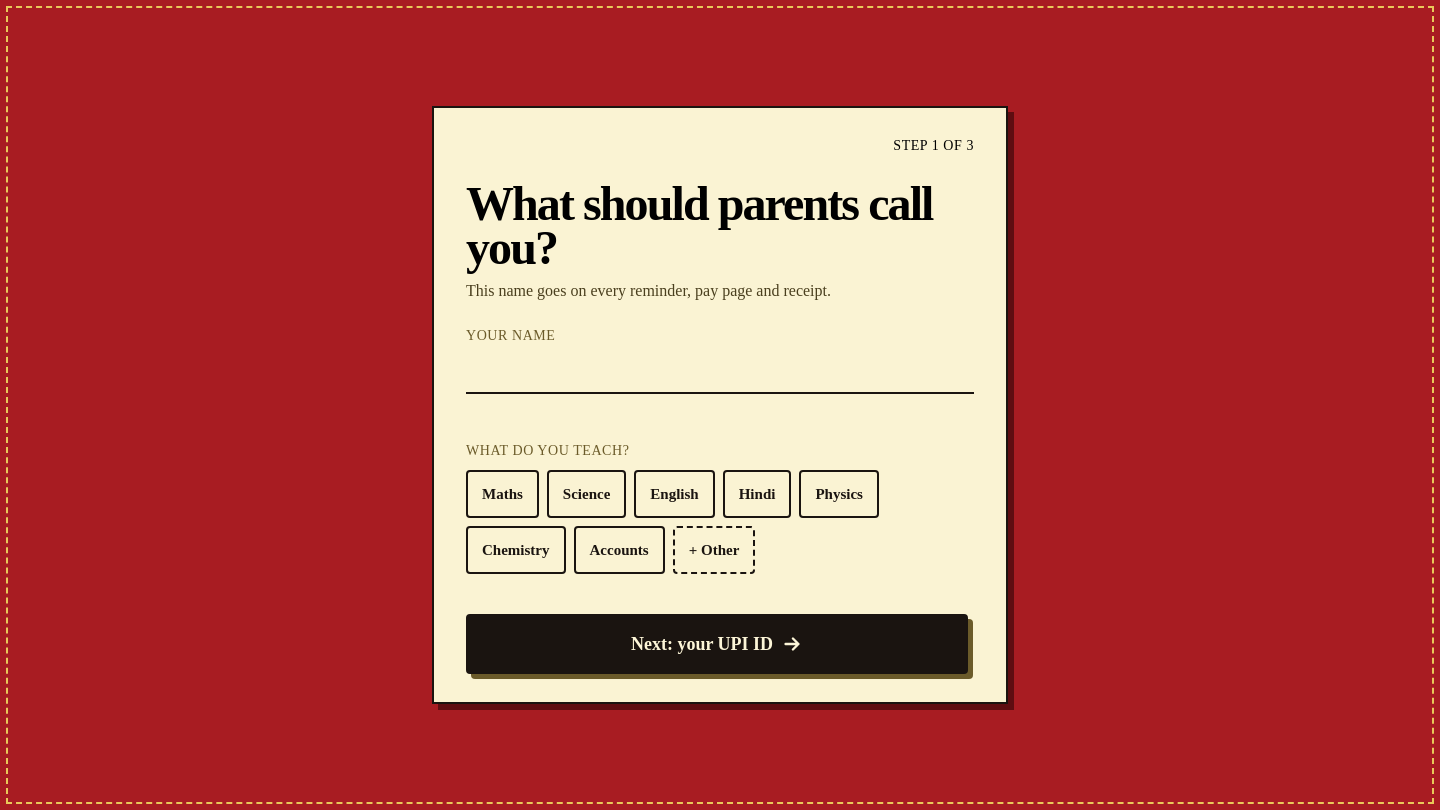
Test: the subjects (criteria 23 and 24) › clears that message when one is picked
Click the button "Next: your UPI ID".
click(717, 644)  # box [466,614,968,674]
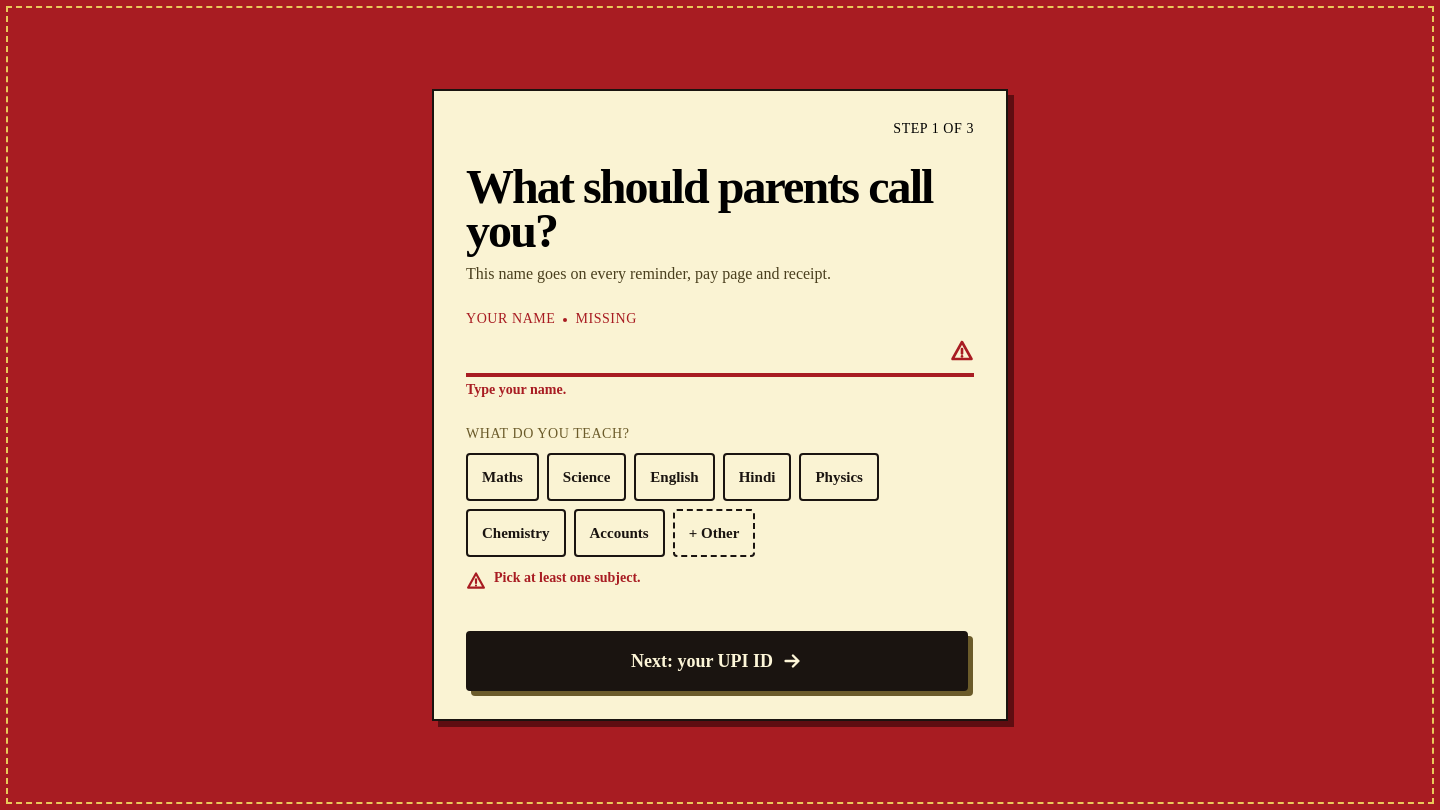
Expected: the text "Pick at least one subject." is shown, [494,569,641,588]
Click the button "Science".
click(587, 477)  # box [547,453,626,501]
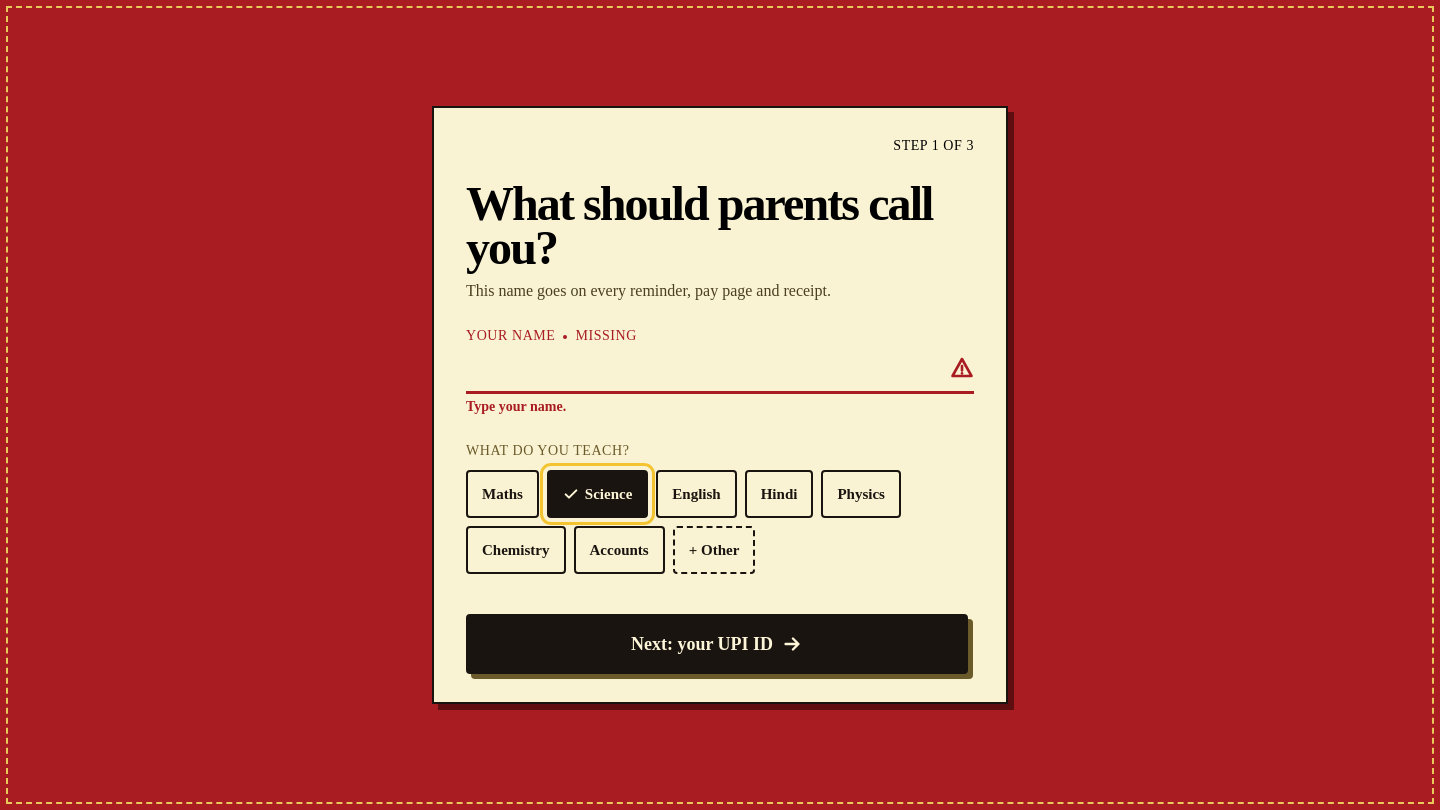
Expected: the text "Pick at least one subject." is gone
